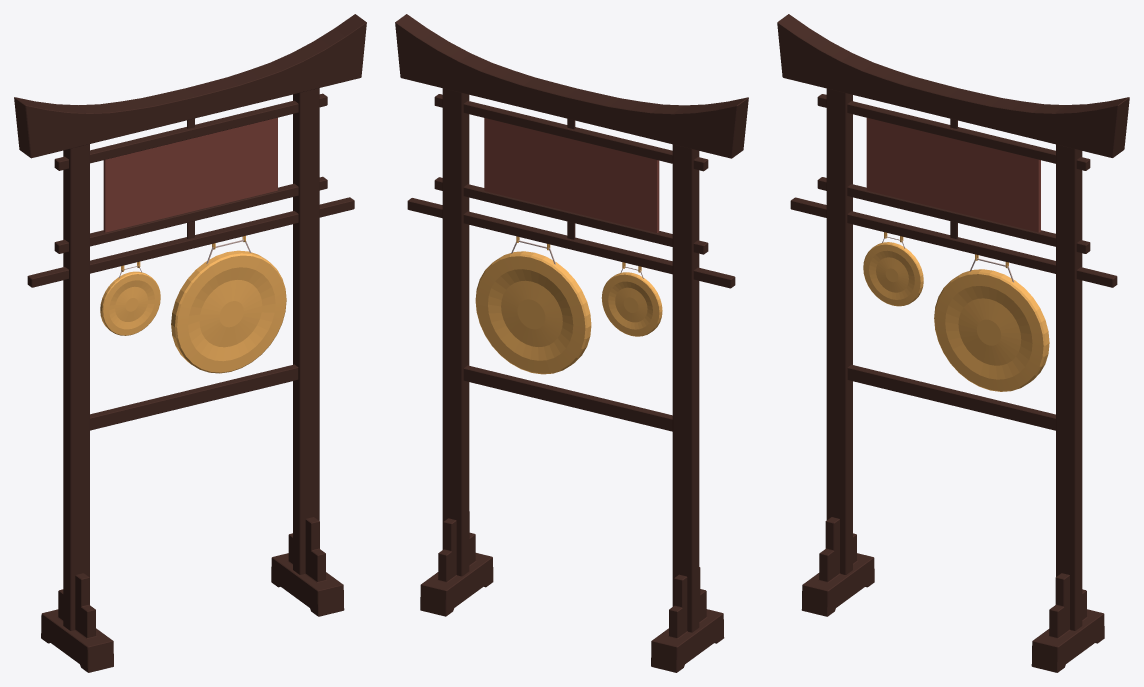
File: LongerGongs.fbx
The picture shows the model from 3 angles, left to right: view 1: azimuth 30°, elevation 25°; view 2: azimuth 150°, elevation 25°; view 3: azimuth 330°, elevation 25°; orthographic projection.
Parts seen in each view (by area): view 1: gong_frame, gong_sign, gong_big, gong_small; view 2: gong_frame, gong_sign, gong_big, gong_small; view 3: gong_frame, gong_sign, gong_big, gong_small.
Boxes of the visible parts, box(x1,y1,x2,y2) form: gong_frame: box(14, 14, 366, 672); gong_sign: box(103, 117, 277, 232); gong_big: box(171, 239, 286, 373); gong_small: box(100, 265, 160, 335); gong_frame: box(395, 14, 748, 672); gong_sign: box(484, 118, 659, 232); gong_big: box(475, 240, 591, 374); gong_small: box(601, 266, 662, 336); gong_frame: box(777, 14, 1129, 672); gong_sign: box(866, 118, 1040, 232); gong_big: box(934, 258, 1049, 391); gong_small: box(863, 236, 923, 306).
Size of the model in its own units: 233 by 367 by 55.83.
